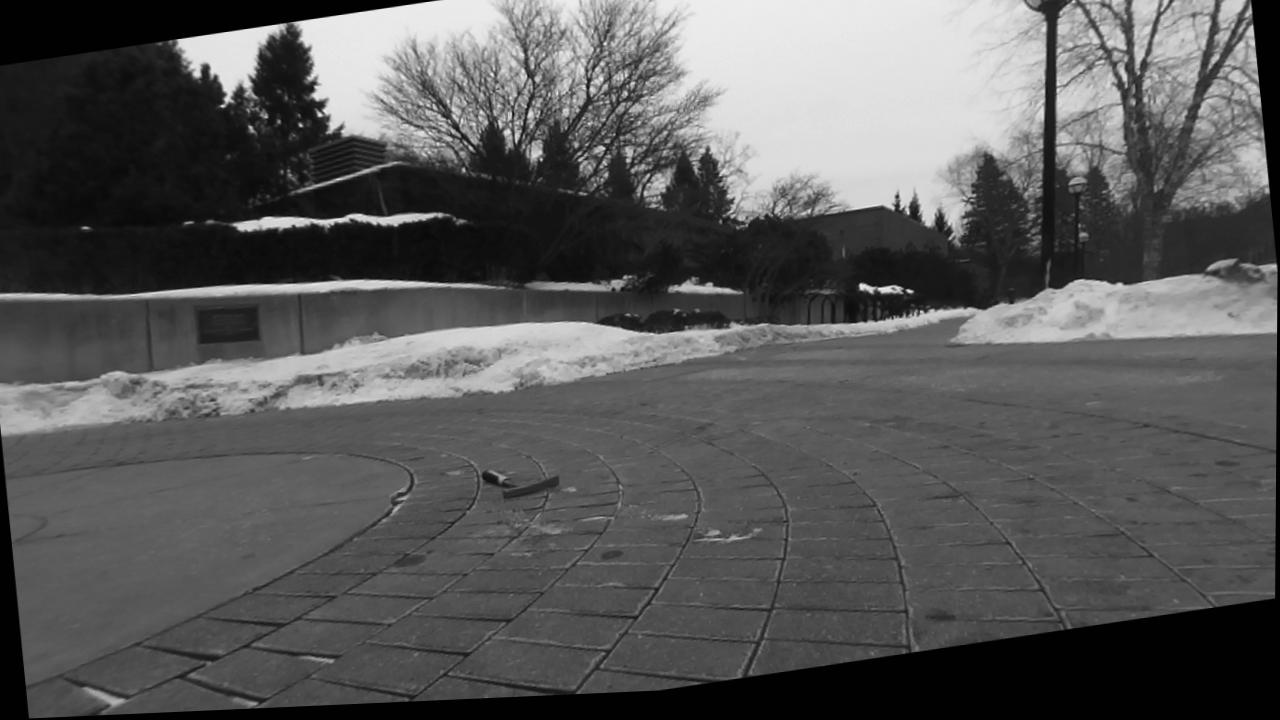pick: (482, 471, 559, 498)
